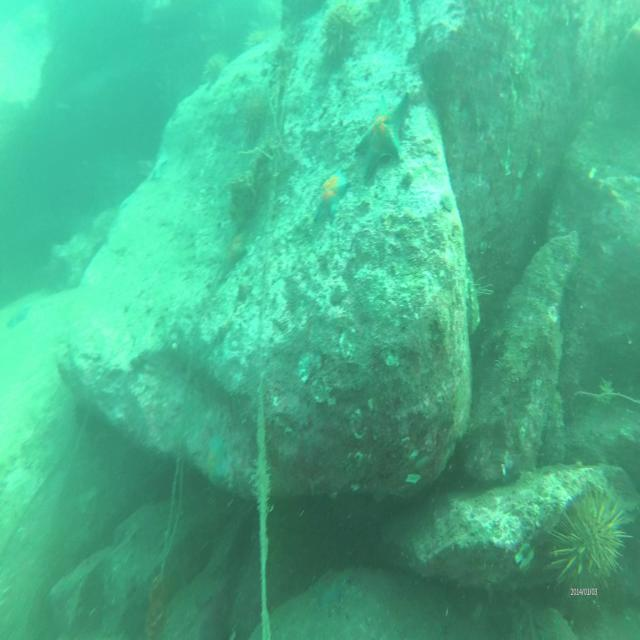echinus: (547, 488, 629, 606), (320, 3, 362, 70), (237, 92, 268, 143), (202, 53, 228, 84), (242, 25, 267, 53)
starfish: (355, 92, 410, 187), (214, 216, 250, 281), (312, 164, 351, 224), (6, 296, 30, 332)
